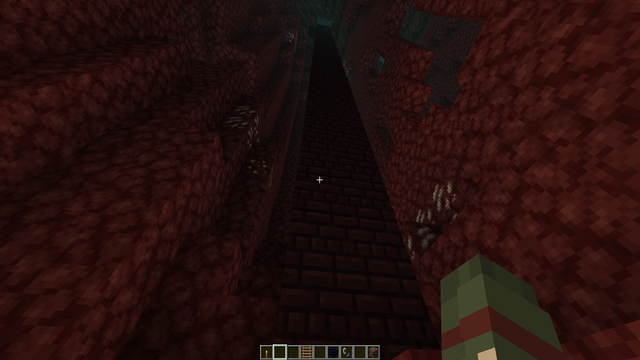nethergold: (242, 149, 274, 191)
quartz: (400, 176, 471, 258), (224, 98, 263, 154), (284, 25, 298, 56)
